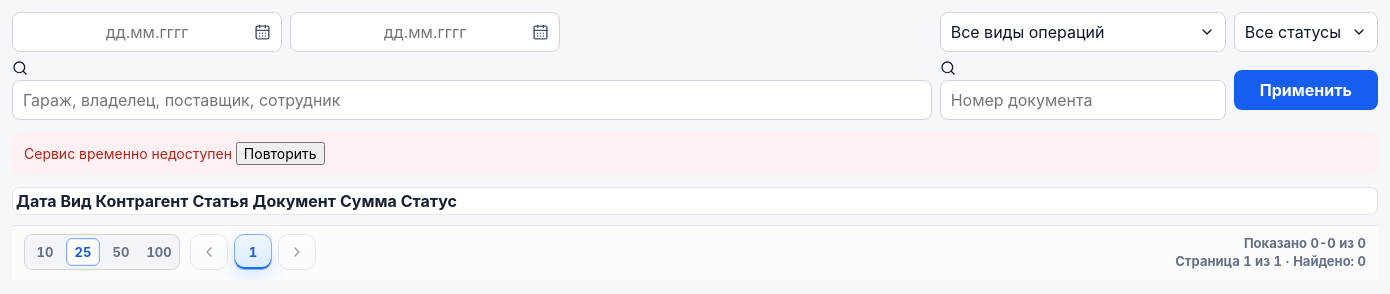
Test: FinancialJournalPanel › shows protected rows without mutation actions and reports loading failures
This screenshot has width=1390, height=294.
Expected: the text "Сервис временно недоступен" is shown, [24,145,232,162]
Click the button "Повторить".
click(280, 154)  # box [236,142,325,165]
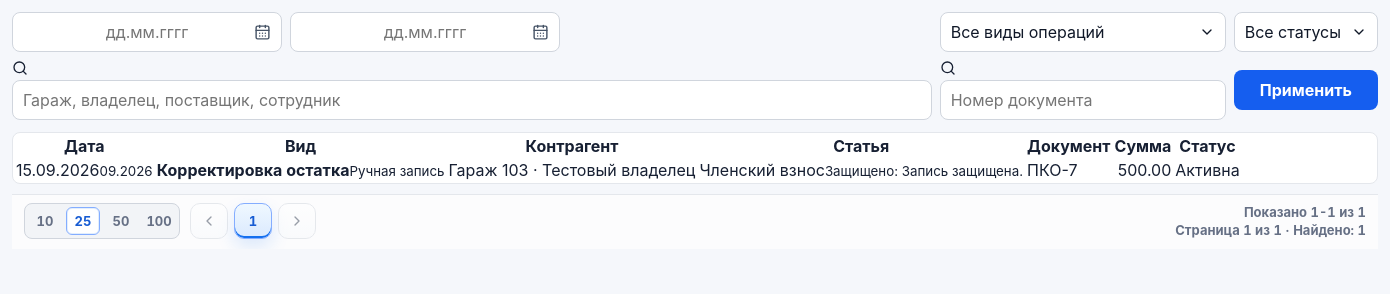
Right-click the text "Защищено: Запись защищена.".
right_click(628, 170)  # box [15,159,1241,181]
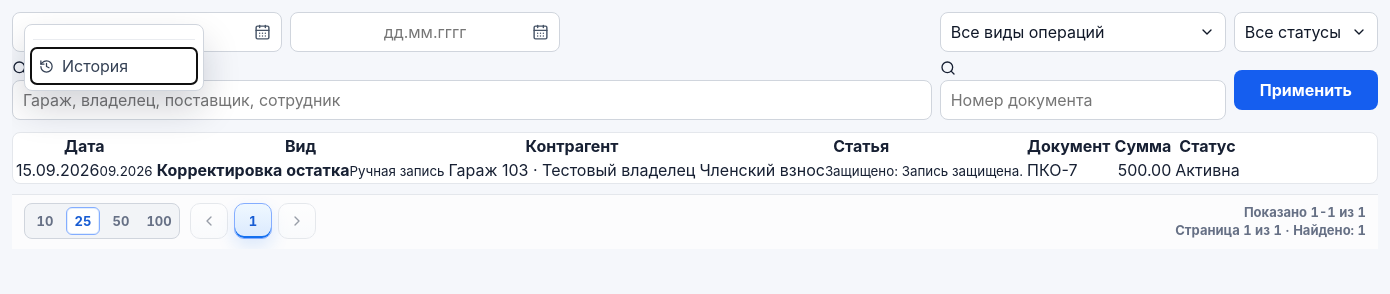
Result: the menu item "История" is shown at [31,48,197,84]
